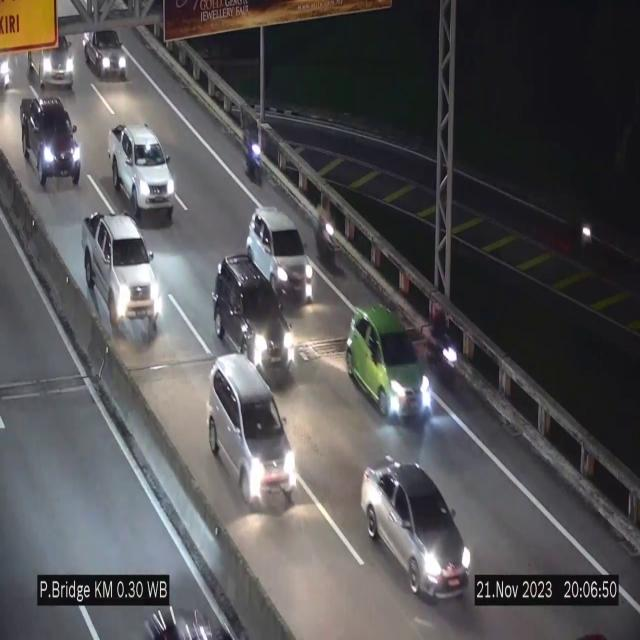Car: (361, 464, 472, 600), (209, 356, 297, 508), (348, 297, 436, 430), (81, 210, 166, 346), (215, 252, 295, 388), (18, 94, 86, 192), (109, 125, 175, 223), (246, 205, 310, 299), (23, 30, 81, 94), (83, 30, 127, 80)
Motorcycle: (432, 306, 464, 398), (316, 193, 342, 281), (242, 124, 264, 192)
